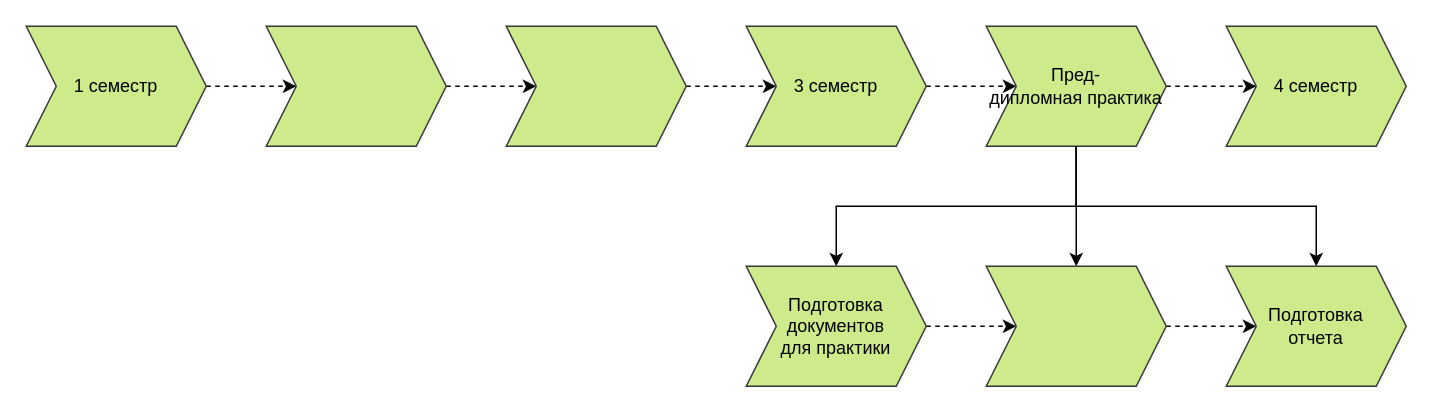
Image size: 1433x413. Some labels were removed from this diagram. Each missing label, with the box of its shape:
2 семестр: (265, 25, 446, 146)
Сбор данных для диплома: (985, 265, 1166, 386)
Экспл. практика: (505, 25, 686, 146)
